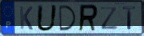D: (58, 5, 78, 33)
K: (18, 6, 34, 32)
R: (77, 4, 100, 33)
T: (121, 6, 137, 31)
U: (35, 4, 59, 33)
Z: (99, 6, 119, 31)
